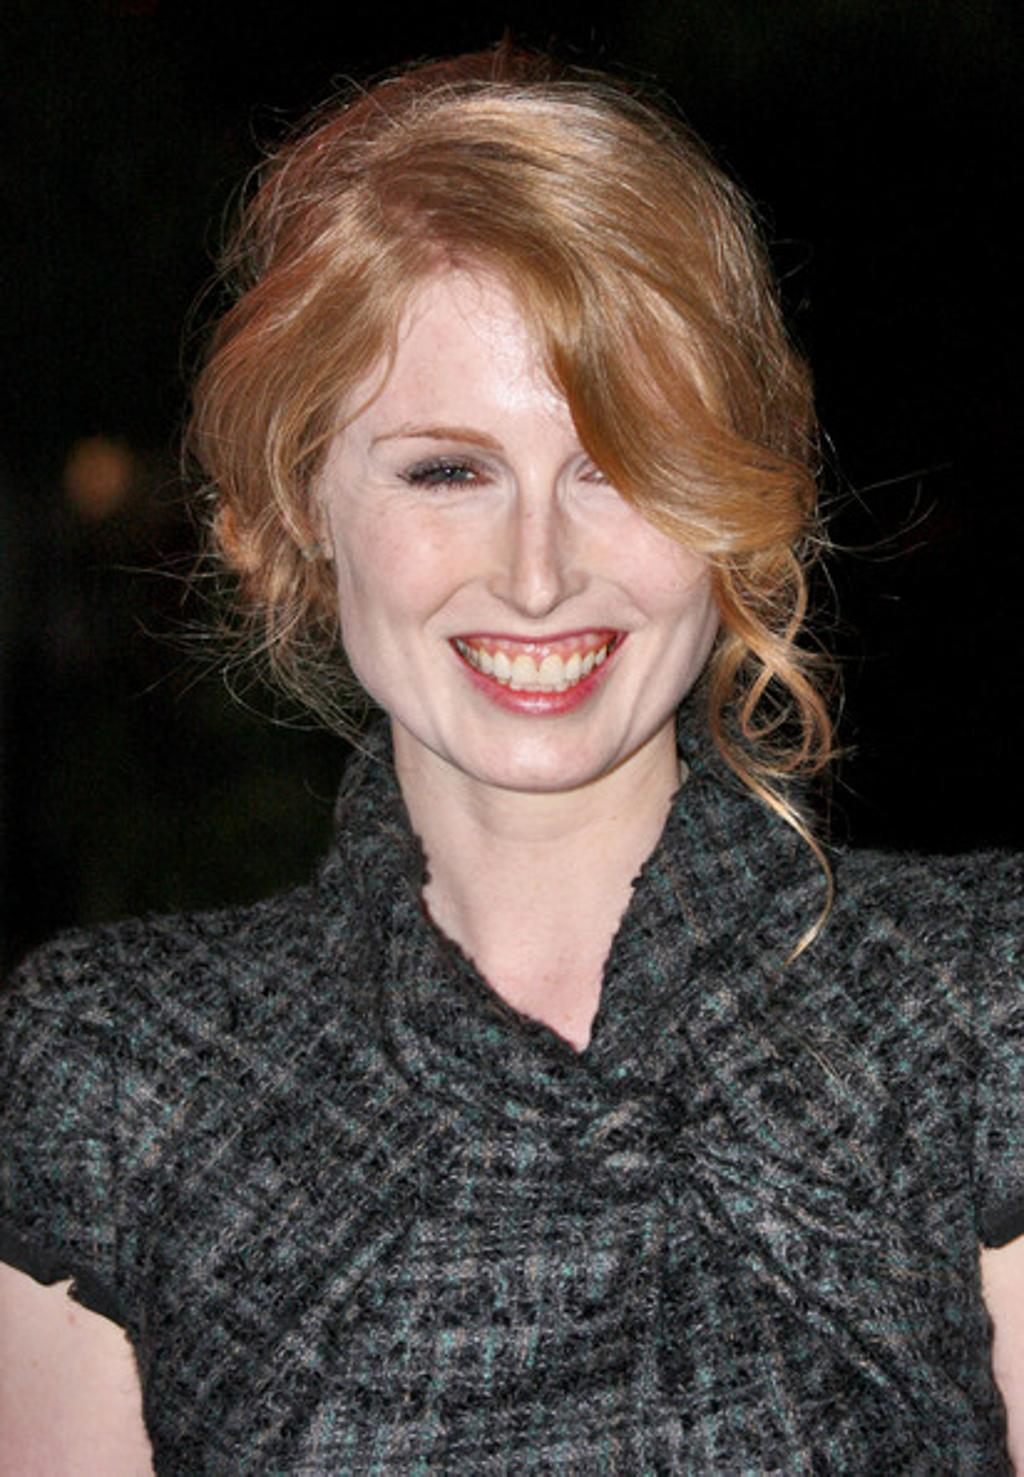face: (323, 231, 724, 793)
